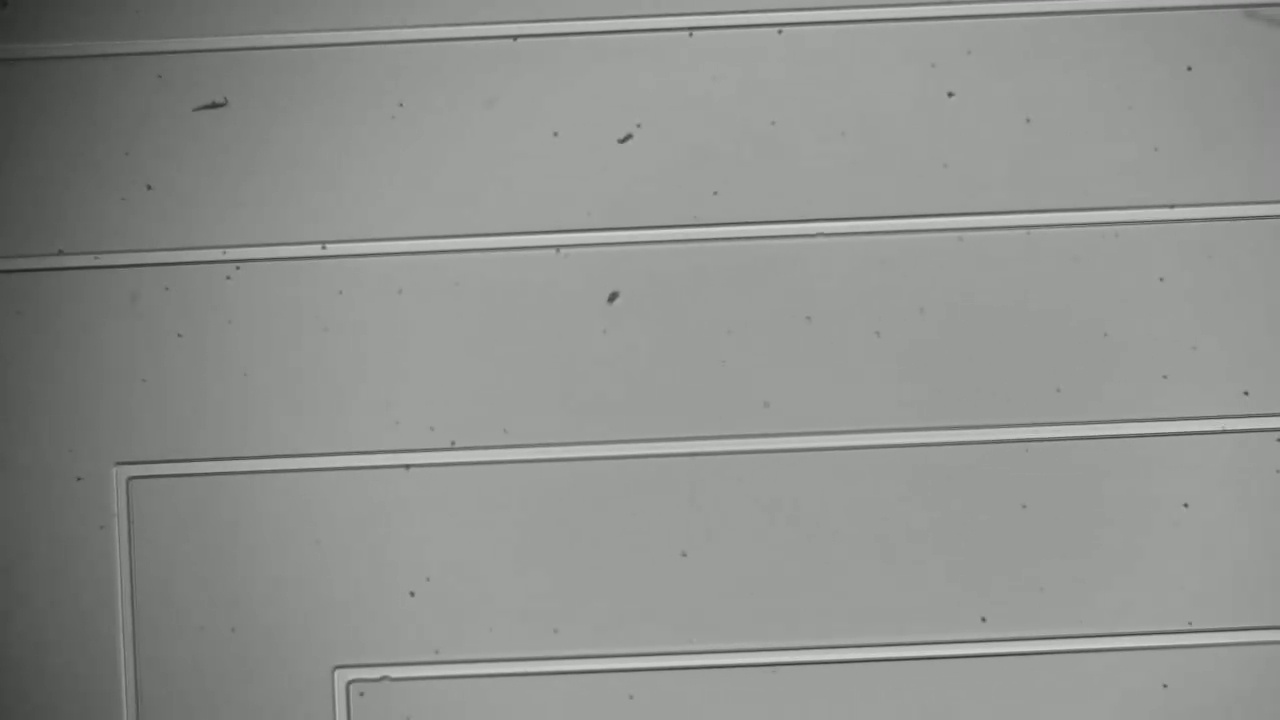edge_bite: (370, 656, 409, 689)
